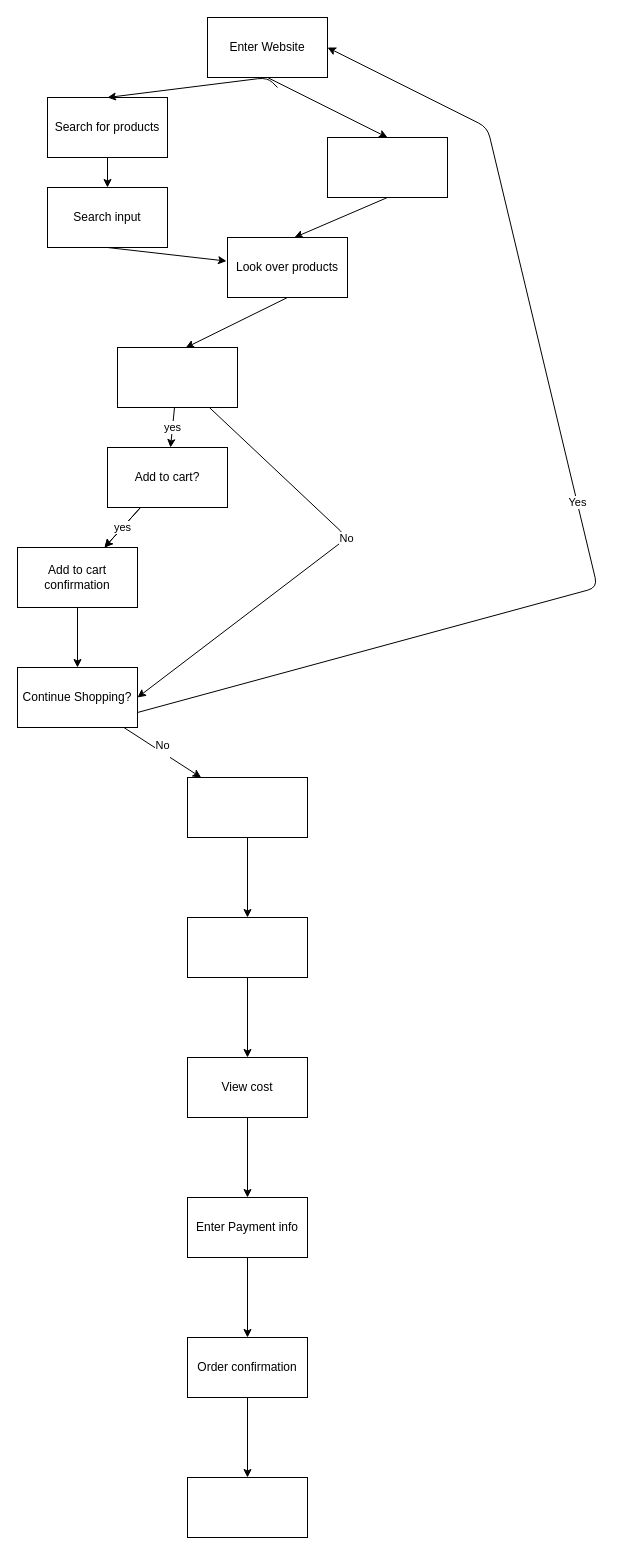
The diagram is 623 pixels wide and 1555 high, and some of its shapes have lost their labels. Each missing label, with the box of its shape:
Checkout: (186, 776, 308, 838)
Exit: (186, 1476, 308, 1538)
Explore website: (326, 136, 448, 198)
View Cart: (186, 916, 308, 978)
View specific product: (116, 346, 238, 408)
